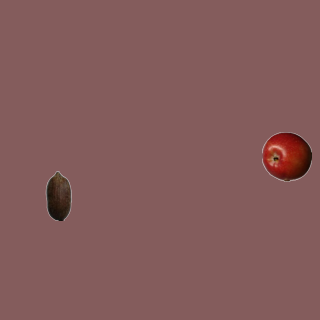Apple Braeburn: (261, 131, 311, 181)
Nut Pecan: (33, 170, 83, 220)
